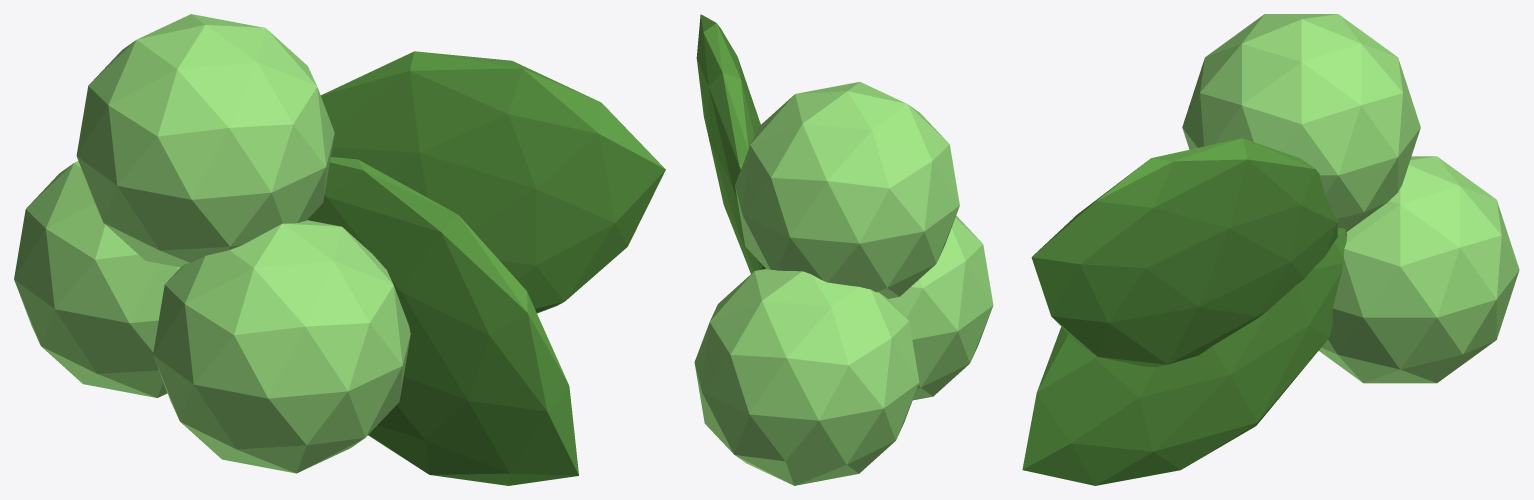
The model's file is BERRIES(B3).fbx.
3 renders of one model, left to right at view 1: azimuth 30°, elevation 25°; view 2: azimuth 150°, elevation 25°; view 3: azimuth 270°, elevation 25°, orthographic. The views are drawn at different scales.
Visible parts, largest first — view 1: leef.002, berrie, barry, leef.001, berry; view 2: berry, barry, berrie, leef.002; view 3: leef.002, leef.001, berry, barry.
Part boxes in pixels (x1,y1,x2,y2): leef.002: (320, 51, 665, 313); berrie: (153, 220, 410, 473); barry: (76, 14, 334, 267); leef.001: (307, 157, 578, 485); berry: (14, 161, 180, 397); berry: (694, 268, 919, 485); barry: (735, 82, 959, 298); berrie: (888, 215, 993, 400); leef.002: (696, 14, 763, 273); leef.002: (1031, 138, 1337, 367); leef.001: (1022, 228, 1346, 485); berry: (1318, 156, 1519, 383); barry: (1182, 14, 1420, 231).
Size of the model in its own units: 374 by 358 by 417.
